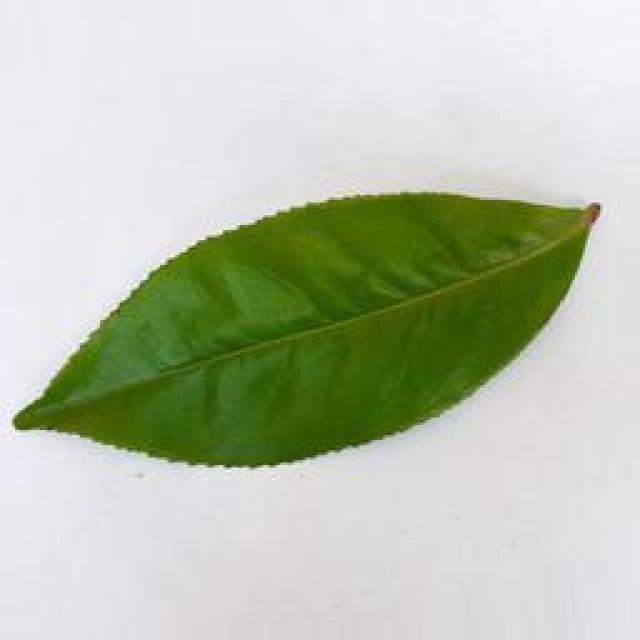Healthy: (12, 183, 592, 445)
